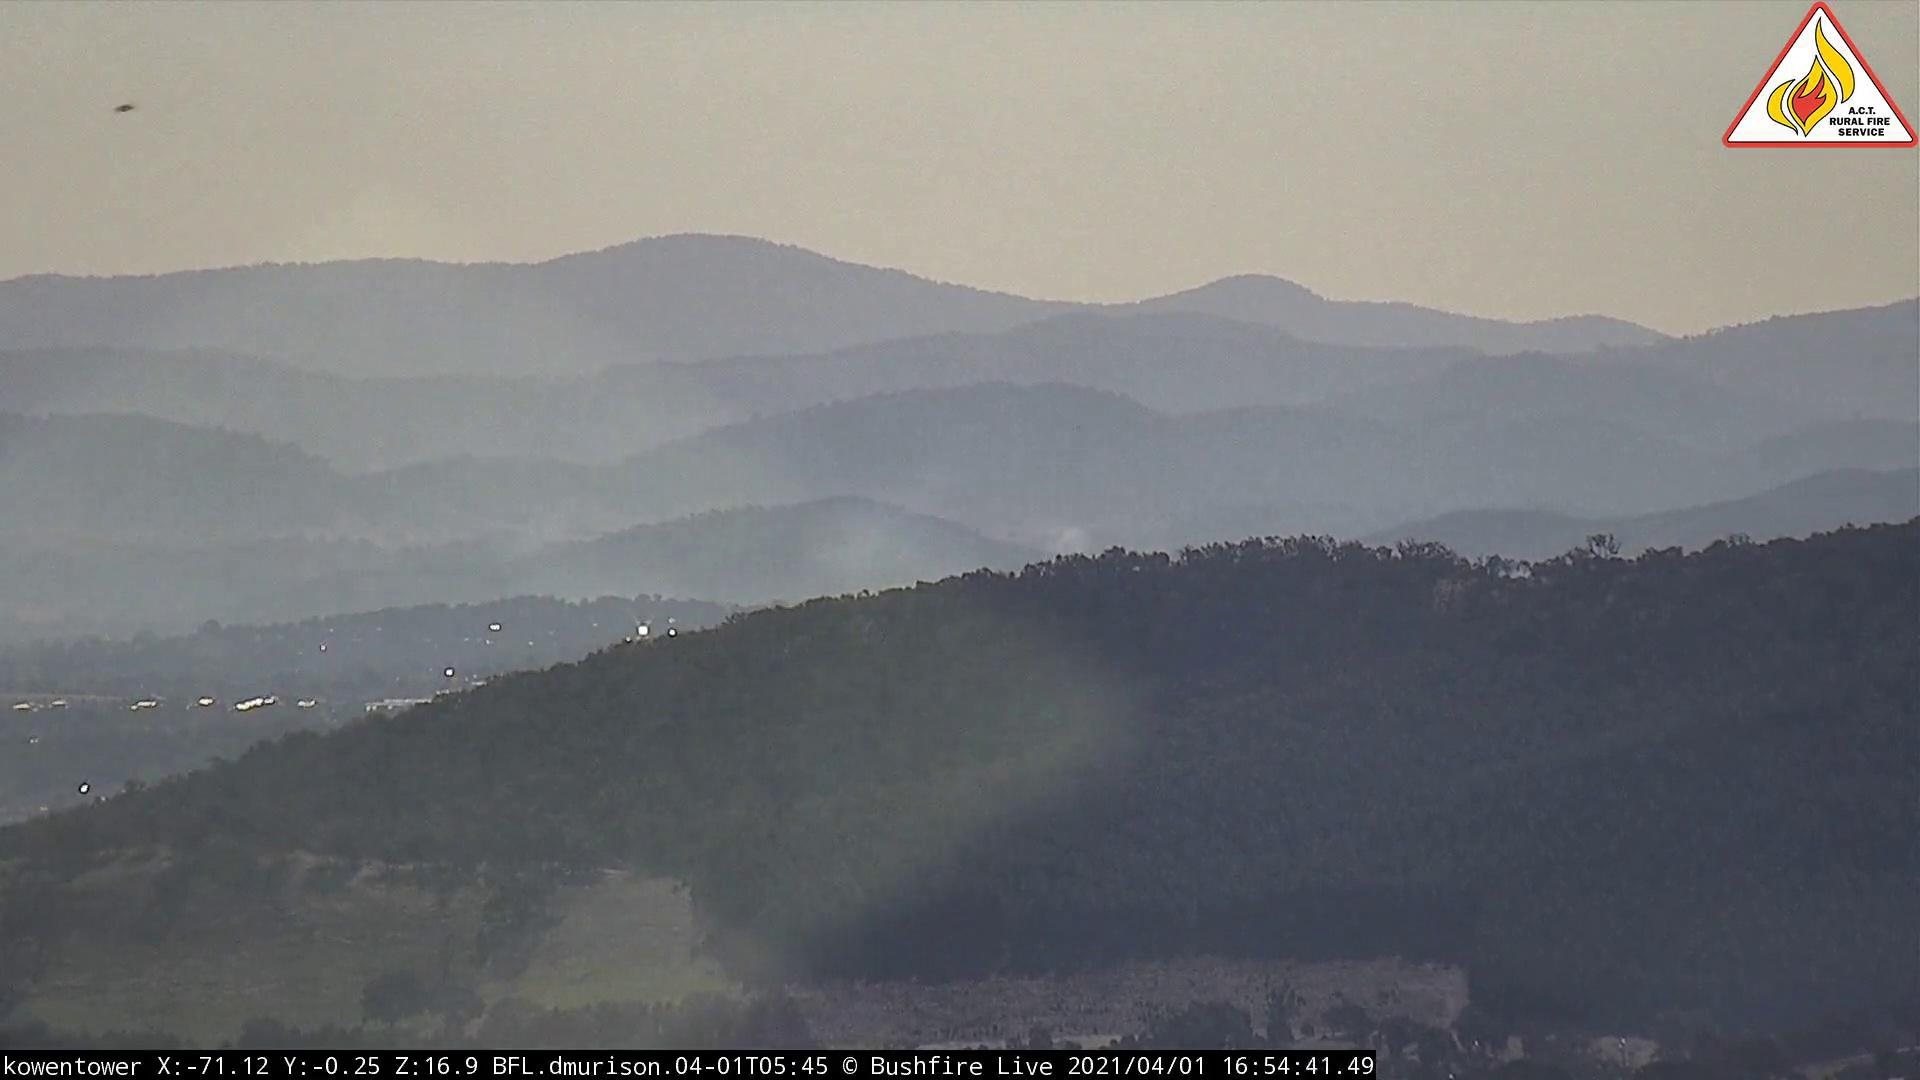Smoke: (770, 438, 1162, 647)
